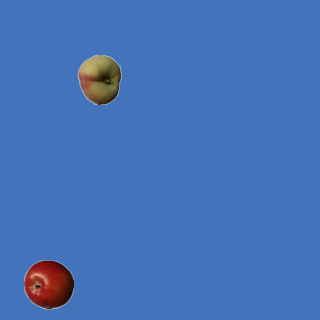Apple Braeburn: (23, 259, 73, 309)
Peach Flat: (74, 54, 124, 104)
